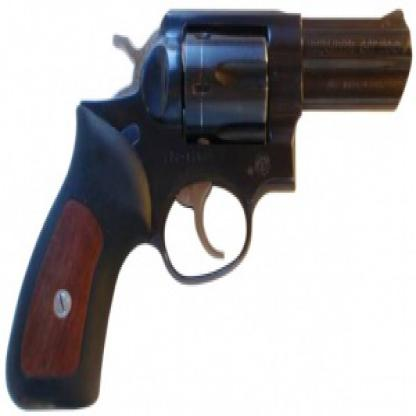Guns: (1, 2, 414, 414)
